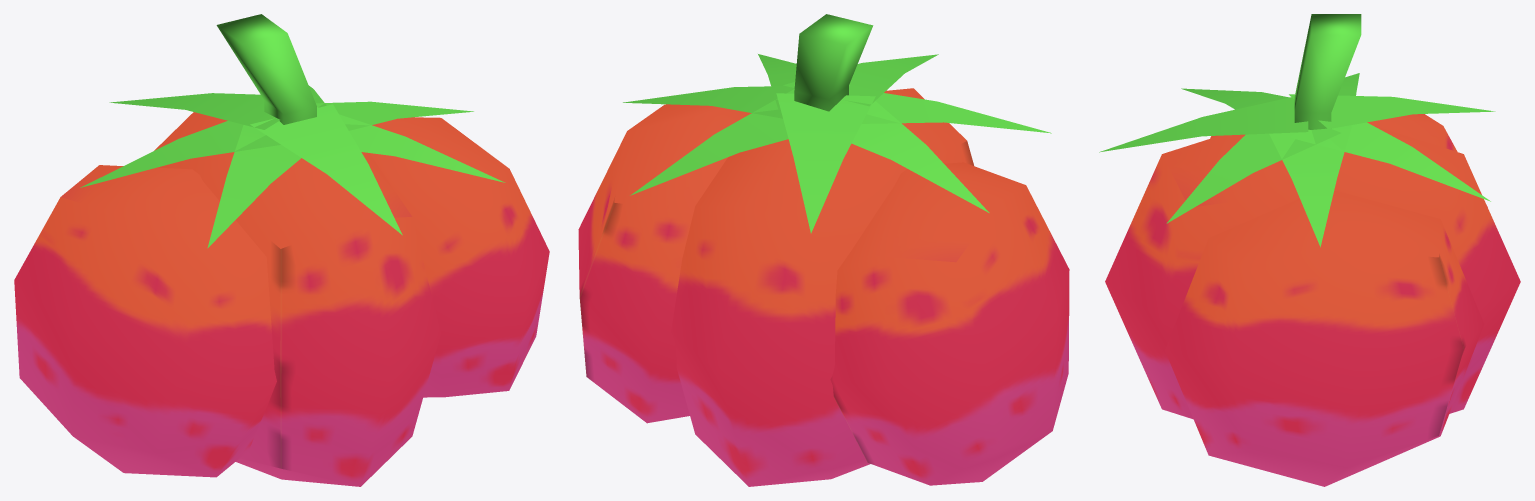
Rendered from VeggieTomato.fbx.
The picture shows the model from 3 angles, left to right: view 1: azimuth 30°, elevation 25°; view 2: azimuth 150°, elevation 25°; view 3: azimuth 270°, elevation 25°; orthographic projection. The views are drawn at different scales.
Parts seen in each view (by area): view 1: Tomato; view 2: Tomato; view 3: Tomato.
Part boxes in pixels (<box>): Tomato: <box>14,14,549,486</box>; Tomato: <box>578,14,1069,486</box>; Tomato: <box>1099,14,1520,486</box>.
Size of the model in its own units: 1.41 by 1.57 by 1.61.
